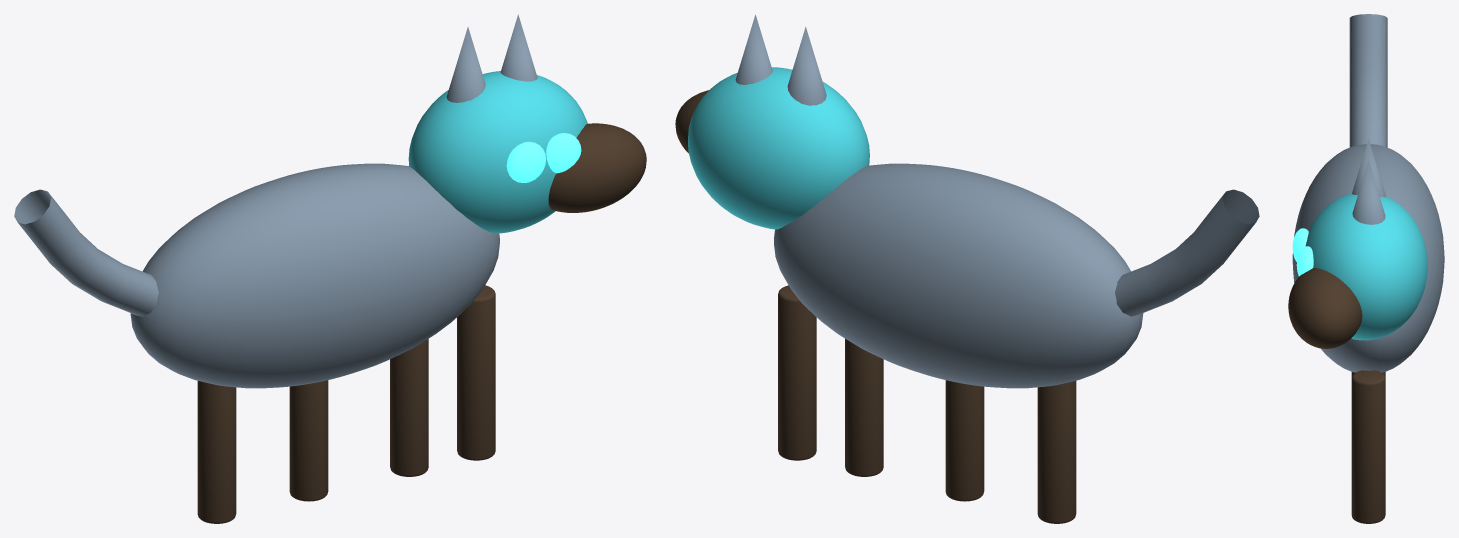
The model's file is beast_v2.glb.
3 views of the same model, side by side, from view 1: azimuth 30°, elevation 25°; view 2: azimuth 150°, elevation 25°; view 3: azimuth 270°, elevation 25° (orthographic). The views are drawn at different scales.
Parts seen in each view (by area): view 1: WOLF_BODY_PRIMARY, WOLF_HEAD_ACCENT, WOLF_TAIL_PRIMARY, WOLF_LEG_SECONDARY.003, WOLF_MUZZLE_SECONDARY, WOLF_LEG_SECONDARY, WOLF_LEG_SECONDARY.002, WOLF_LEG_SECONDARY.001, WOLF_EAR_PRIMARY, WOLF_EAR_PRIMARY.001, EYE_EMISSIVE, EYE_EMISSIVE.001; view 2: WOLF_BODY_PRIMARY, WOLF_HEAD_ACCENT, WOLF_TAIL_PRIMARY, WOLF_LEG_SECONDARY.003, WOLF_LEG_SECONDARY, WOLF_LEG_SECONDARY.002, WOLF_LEG_SECONDARY.001, WOLF_EAR_PRIMARY, WOLF_EAR_PRIMARY.001, WOLF_MUZZLE_SECONDARY; view 3: WOLF_HEAD_ACCENT, WOLF_BODY_PRIMARY, WOLF_LEG_SECONDARY.003, WOLF_TAIL_PRIMARY, WOLF_MUZZLE_SECONDARY, WOLF_EAR_PRIMARY.001, WOLF_EAR_PRIMARY, EYE_EMISSIVE.001, EYE_EMISSIVE.
Part boxes in pixels (<box>): WOLF_BODY_PRIMARY: <box>130,163,499,388</box>; WOLF_HEAD_ACCENT: <box>408,71,587,233</box>; WOLF_TAIL_PRIMARY: <box>14,189,158,316</box>; WOLF_LEG_SECONDARY.003: <box>457,285,495,460</box>; WOLF_MUZZLE_SECONDARY: <box>548,123,646,212</box>; WOLF_LEG_SECONDARY: <box>197,381,236,523</box>; WOLF_LEG_SECONDARY.002: <box>390,339,428,476</box>; WOLF_LEG_SECONDARY.001: <box>289,380,328,501</box>; WOLF_EAR_PRIMARY: <box>446,27,485,102</box>; WOLF_EAR_PRIMARY.001: <box>500,14,537,81</box>; EYE_EMISSIVE: <box>506,141,545,182</box>; EYE_EMISSIVE.001: <box>546,133,581,173</box>; WOLF_BODY_PRIMARY: <box>774,163,1143,388</box>; WOLF_HEAD_ACCENT: <box>688,67,869,229</box>; WOLF_TAIL_PRIMARY: <box>1115,189,1259,316</box>; WOLF_LEG_SECONDARY.003: <box>778,285,816,460</box>; WOLF_LEG_SECONDARY: <box>1037,381,1076,523</box>; WOLF_LEG_SECONDARY.002: <box>845,338,883,476</box>; WOLF_LEG_SECONDARY.001: <box>945,380,984,501</box>; WOLF_EAR_PRIMARY: <box>787,26,826,105</box>; WOLF_EAR_PRIMARY.001: <box>735,14,772,84</box>; WOLF_MUZZLE_SECONDARY: <box>675,90,708,153</box>; WOLF_HEAD_ACCENT: <box>1305,193,1427,340</box>; WOLF_BODY_PRIMARY: <box>1292,144,1444,372</box>; WOLF_LEG_SECONDARY.003: <box>1351,370,1385,523</box>; WOLF_TAIL_PRIMARY: <box>1349,14,1387,147</box>; WOLF_MUZZLE_SECONDARY: <box>1288,268,1362,348</box>; WOLF_EAR_PRIMARY.001: <box>1352,161,1385,224</box>; WOLF_EAR_PRIMARY: <box>1352,139,1385,197</box>; EYE_EMISSIVE.001: <box>1296,246,1313,276</box>; EYE_EMISSIVE: <box>1292,228,1308,261</box>.
Bounding box in the file's own units: 2.87 × 1.96 × 0.74.
